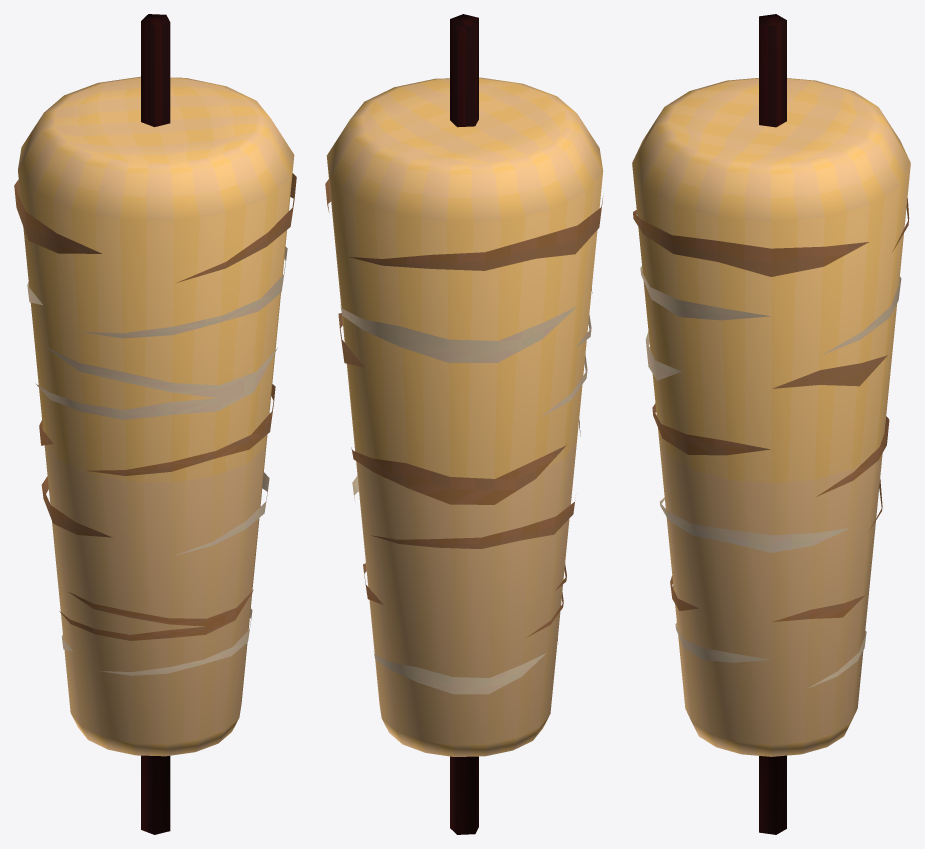
File: ShawermaSpit-transformed.glb
3 renders of one model, left to right at view 1: azimuth 30°, elevation 25°; view 2: azimuth 150°, elevation 25°; view 3: azimuth 270°, elevation 25°, orthographic.
Visible parts, largest first — view 1: ShawermaRod; view 2: ShawermaRod; view 3: ShawermaRod.
Part boxes in pixels (x1,y1,x2,y2): ShawermaRod: (14,14,296,834); ShawermaRod: (325,14,603,834); ShawermaRod: (632,14,910,834).
Size of the model in its own units: 3.63 by 11.5 by 3.59.
Materials: 1 (1 with a texture image).
